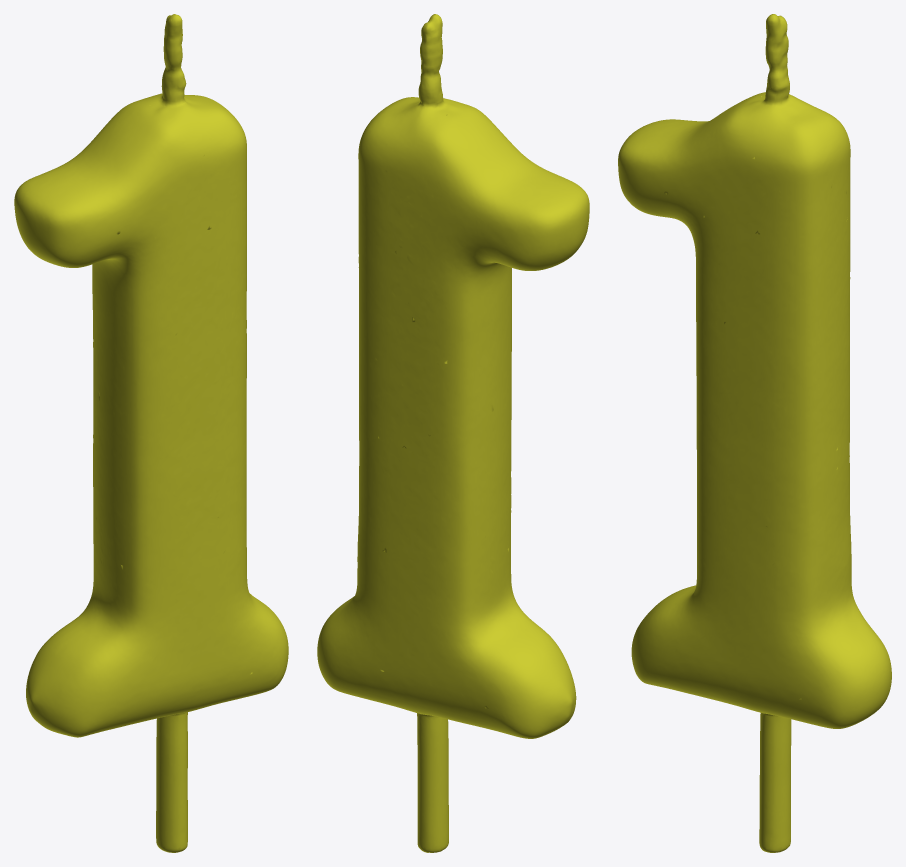
File: number1.glb
The picture shows the model from 3 angles, left to right: view 1: azimuth 30°, elevation 25°; view 2: azimuth 150°, elevation 25°; view 3: azimuth 330°, elevation 25°; orthographic projection.
Parts seen in each view (by area): view 1: Mesh1.001; view 2: Mesh1.001; view 3: Mesh1.001.
Boxes of the visible parts, <box> form: Mesh1.001: <box>14,14,288,852</box>; Mesh1.001: <box>317,14,589,852</box>; Mesh1.001: <box>618,14,891,852</box>.
Size of the model in its own units: 0.2949 by 0.9254 by 0.1131.
